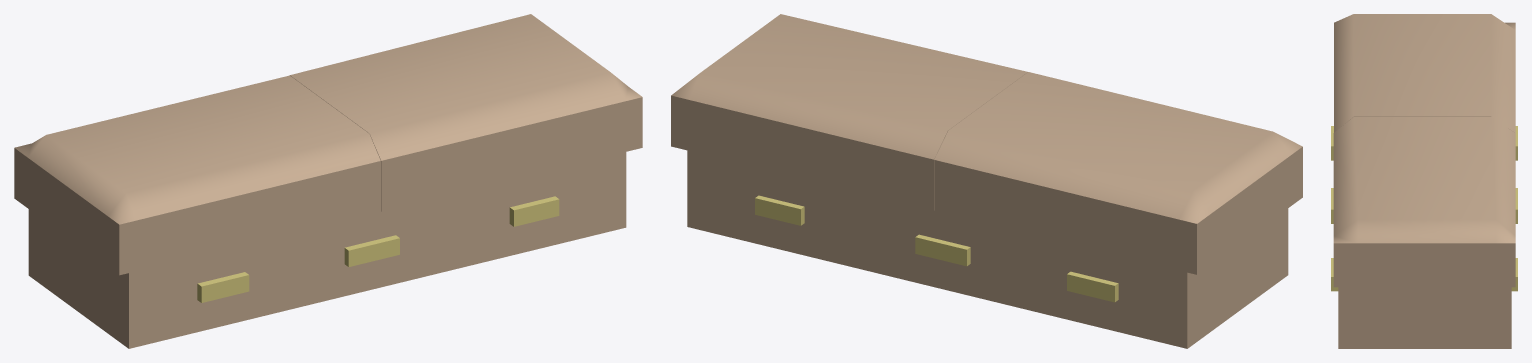
Rendered from casket w lids.fbx.
3 views of the same model, side by side, from view 1: azimuth 30°, elevation 25°; view 2: azimuth 150°, elevation 25°; view 3: azimuth 270°, elevation 25° (orthographic). The views are drawn at different scales.
Parts seen in each view (by area): view 1: pCube2, pCube1, pCube3; view 2: pCube2, pCube1, pCube3; view 3: pCube3, pCube2, pCube1.
Boxes of the visible parts, left/top/right/bottom form: pCube2: left=14, top=75, right=380, bottom=275; pCube1: left=28, top=152, right=626, bottom=348; pCube3: left=290, top=14, right=642, bottom=211; pCube2: left=934, top=72, right=1302, bottom=274; pCube1: left=687, top=150, right=1288, bottom=348; pCube3: left=671, top=14, right=1027, bottom=210; pCube3: left=1333, top=117, right=1515, bottom=287; pCube2: left=1334, top=14, right=1515, bottom=132; pCube1: left=1331, top=126, right=1517, bottom=348.
Bounding box in the file's own units: 6.03 × 1.63 × 2.16.
